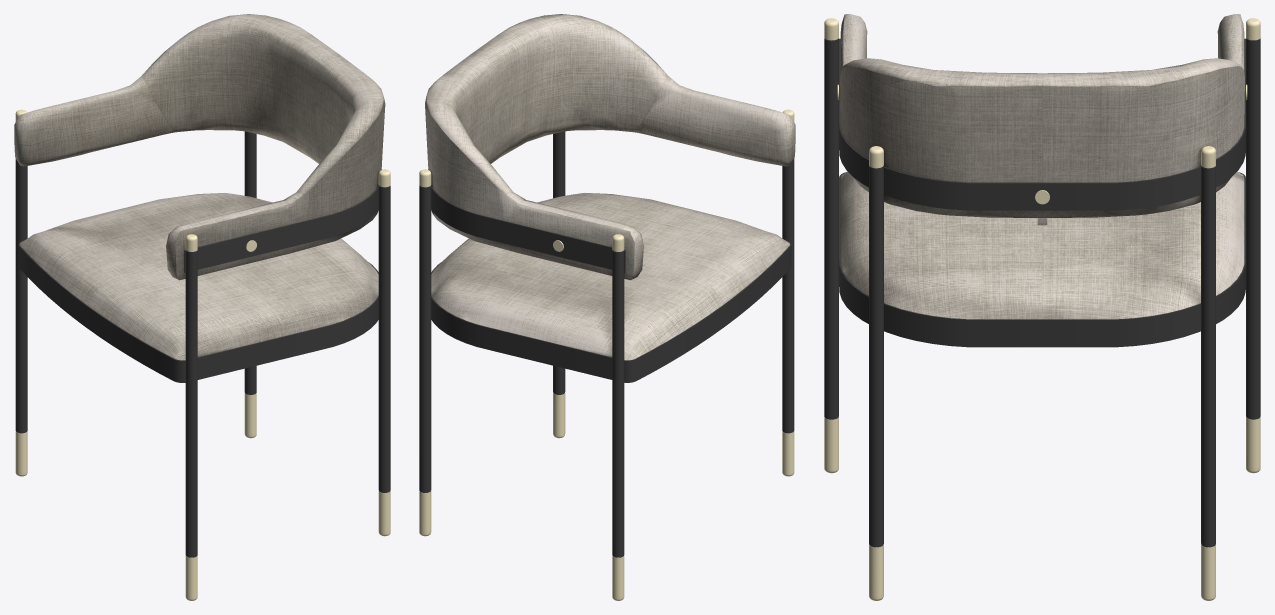
The picture shows the model from 3 angles, left to right: view 1: azimuth 30°, elevation 25°; view 2: azimuth 150°, elevation 25°; view 3: azimuth 270°, elevation 25°; orthographic projection. The views are drawn at different scales.
Parts seen in each view (by area): view 1: Mesh14 Group14 skp4C6_1 Component_2_1 Model, Mesh1 Group2 Group1 Component_2_1 Model, Mesh2 Group3 Component_2_1 Model, Mesh22 Group23 Component_1_3 Component_2_2 Model, Mesh25 Group26 Component_1_4 Component_2_2 Model, Mesh7 Group8 Component_1_1 Component_2_1 Model, Mesh23 Group24 Component_1_3 Component_2_2 Model, Mesh10 Group11 Component_1_2 Component_2_1 Model; view 2: Mesh14 Group14 skp4C6_1 Component_2_1 Model, Mesh1 Group2 Group1 Component_2_1 Model, Mesh2 Group3 Component_2_1 Model, Mesh7 Group8 Component_1_1 Component_2_1 Model, Mesh10 Group11 Component_1_2 Component_2_1 Model, Mesh22 Group23 Component_1_3 Component_2_2 Model, Mesh23 Group24 Component_1_3 Component_2_2 Model, Mesh25 Group26 Component_1_4 Component_2_2 Model; view 3: Mesh14 Group14 skp4C6_1 Component_2_1 Model, Mesh1 Group2 Group1 Component_2_1 Model, Mesh2 Group3 Component_2_1 Model, Mesh10 Group11 Component_1_2 Component_2_1 Model, Mesh25 Group26 Component_1_4 Component_2_2 Model, Mesh22 Group23 Component_1_3 Component_2_2 Model, Mesh7 Group8 Component_1_1 Component_2_1 Model, Mesh23 Group24 Component_1_3 Component_2_2 Model.
Part boxes in pixels (x1,y1,x2,y2): Mesh14 Group14 skp4C6_1 Component_2_1 Model: [14, 14, 385, 360]; Mesh1 Group2 Group1 Component_2_1 Model: [18, 240, 378, 382]; Mesh2 Group3 Component_2_1 Model: [184, 169, 381, 272]; Mesh22 Group23 Component_1_3 Component_2_2 Model: [185, 250, 197, 557]; Mesh25 Group26 Component_1_4 Component_2_2 Model: [378, 185, 390, 492]; Mesh7 Group8 Component_1_1 Component_2_1 Model: [15, 159, 27, 433]; Mesh23 Group24 Component_1_3 Component_2_2 Model: [15, 109, 390, 600]; Mesh10 Group11 Component_1_2 Component_2_1 Model: [244, 131, 256, 394]; Mesh14 Group14 skp4C6_1 Component_2_1 Model: [425, 14, 795, 360]; Mesh1 Group2 Group1 Component_2_1 Model: [431, 240, 791, 382]; Mesh2 Group3 Component_2_1 Model: [428, 169, 625, 272]; Mesh7 Group8 Component_1_1 Component_2_1 Model: [612, 250, 624, 557]; Mesh10 Group11 Component_1_2 Component_2_1 Model: [419, 185, 431, 492]; Mesh22 Group23 Component_1_3 Component_2_2 Model: [782, 159, 794, 433]; Mesh23 Group24 Component_1_3 Component_2_2 Model: [419, 109, 794, 600]; Mesh25 Group26 Component_1_4 Component_2_2 Model: [553, 131, 565, 394]; Mesh14 Group14 skp4C6_1 Component_2_1 Model: [840, 14, 1244, 319]; Mesh1 Group2 Group1 Component_2_1 Model: [839, 172, 1245, 347]; Mesh2 Group3 Component_2_1 Model: [839, 38, 1245, 210]; Mesh10 Group11 Component_1_2 Component_2_1 Model: [1201, 166, 1215, 547]; Mesh25 Group26 Component_1_4 Component_2_2 Model: [869, 166, 883, 547]; Mesh22 Group23 Component_1_3 Component_2_2 Model: [824, 38, 838, 419]; Mesh7 Group8 Component_1_1 Component_2_1 Model: [1246, 38, 1260, 419]; Mesh23 Group24 Component_1_3 Component_2_2 Model: [824, 18, 1260, 600].
Bounding box in the file's own units: 0.4937 × 0.7827 × 0.585.
Materials: 4 (2 with a texture image).
